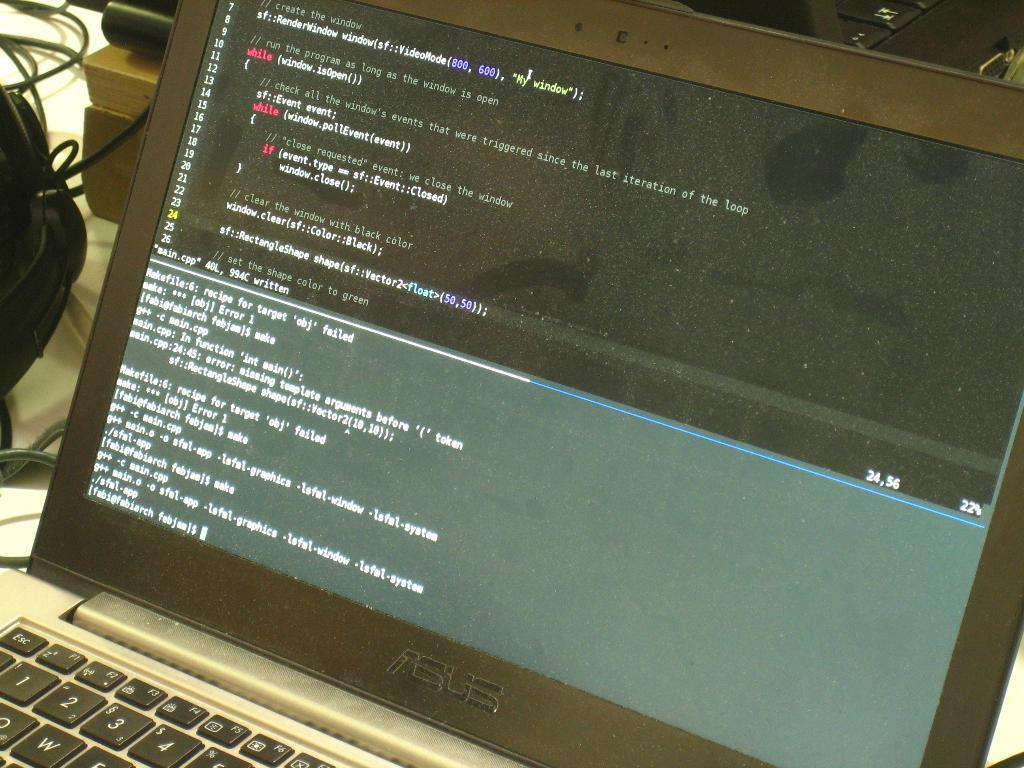Laptop: (0, 0, 986, 768)
